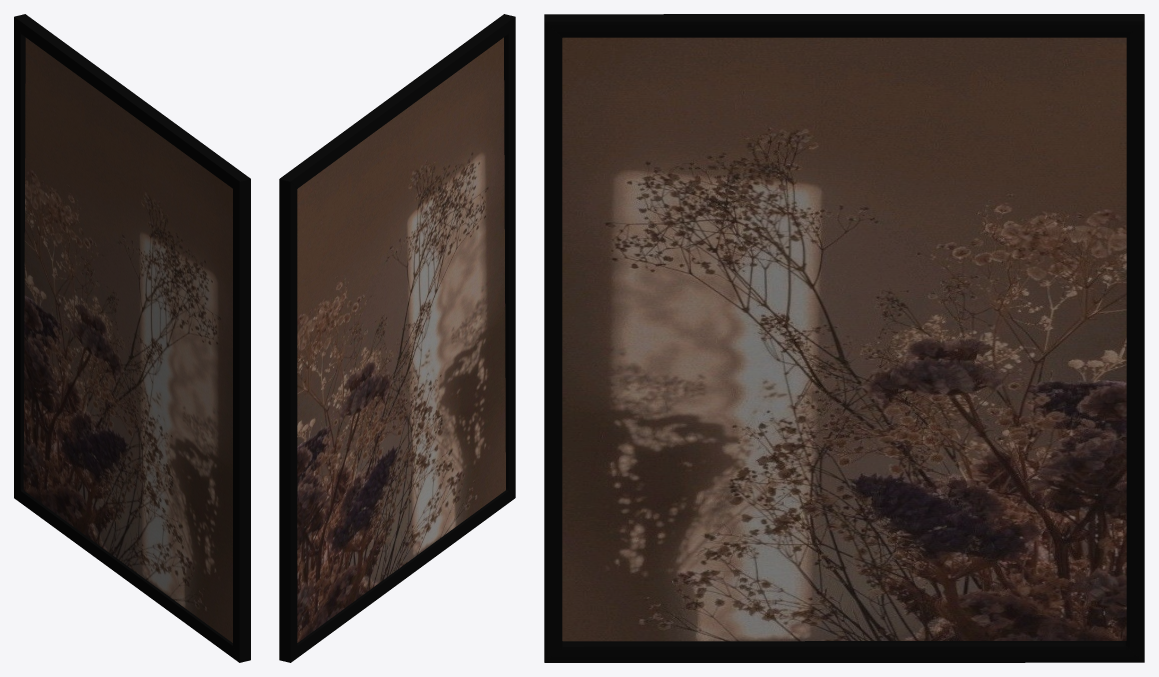
File: PhotoFrame3.glb
3 renders of one model, left to right at view 1: azimuth 30°, elevation 25°; view 2: azimuth 150°, elevation 25°; view 3: azimuth 270°, elevation 25°, orthographic. The views are drawn at different scales.
Visible parts, largest first — view 1: DainTasker_Frame.001; view 2: DainTasker_Frame.001; view 3: DainTasker_Frame.001.
Part boxes in pixels (left/top/right/bottom): DainTasker_Frame.001: left=14, top=14, right=250, bottom=662; DainTasker_Frame.001: left=279, top=14, right=515, bottom=662; DainTasker_Frame.001: left=544, top=14, right=1144, bottom=662.
Bounding box in the file's own units: 0.0792 × 3.13 × 2.65.
Materials: 2 (1 with a texture image).
